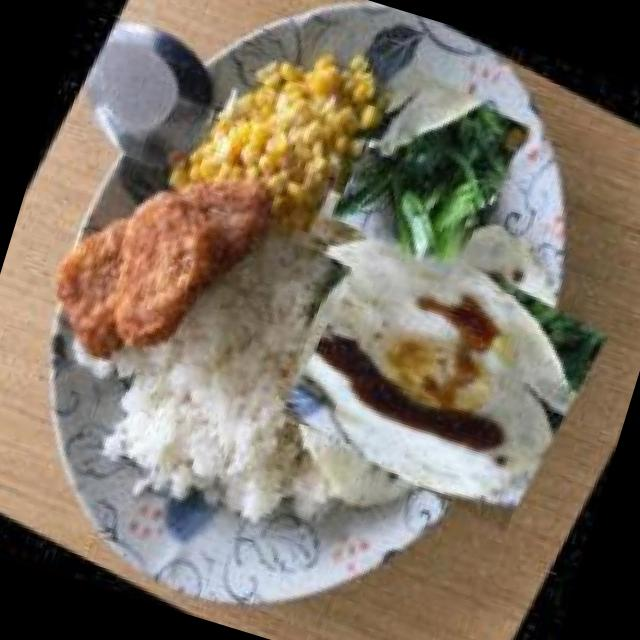fried_eggs: (221, 164, 614, 557)
rice: (102, 190, 367, 525)
triangle_hash_brown: (22, 105, 296, 414)
water_spinach: (322, 56, 538, 291)
